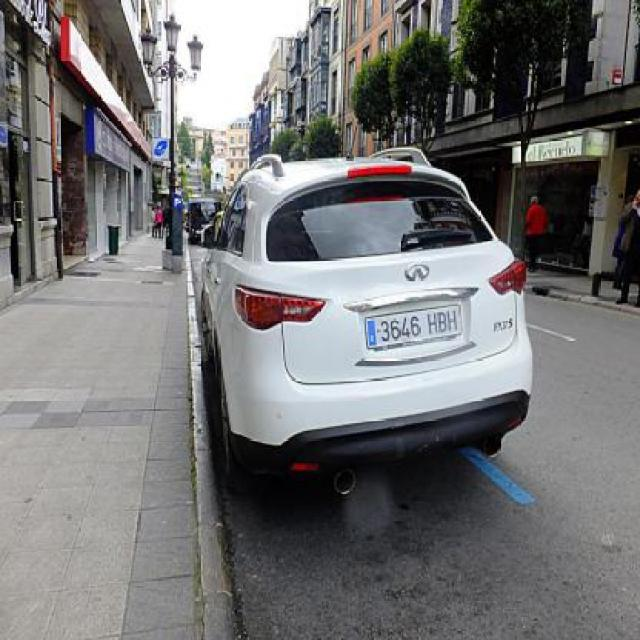License-Plates: (362, 291, 467, 362)
